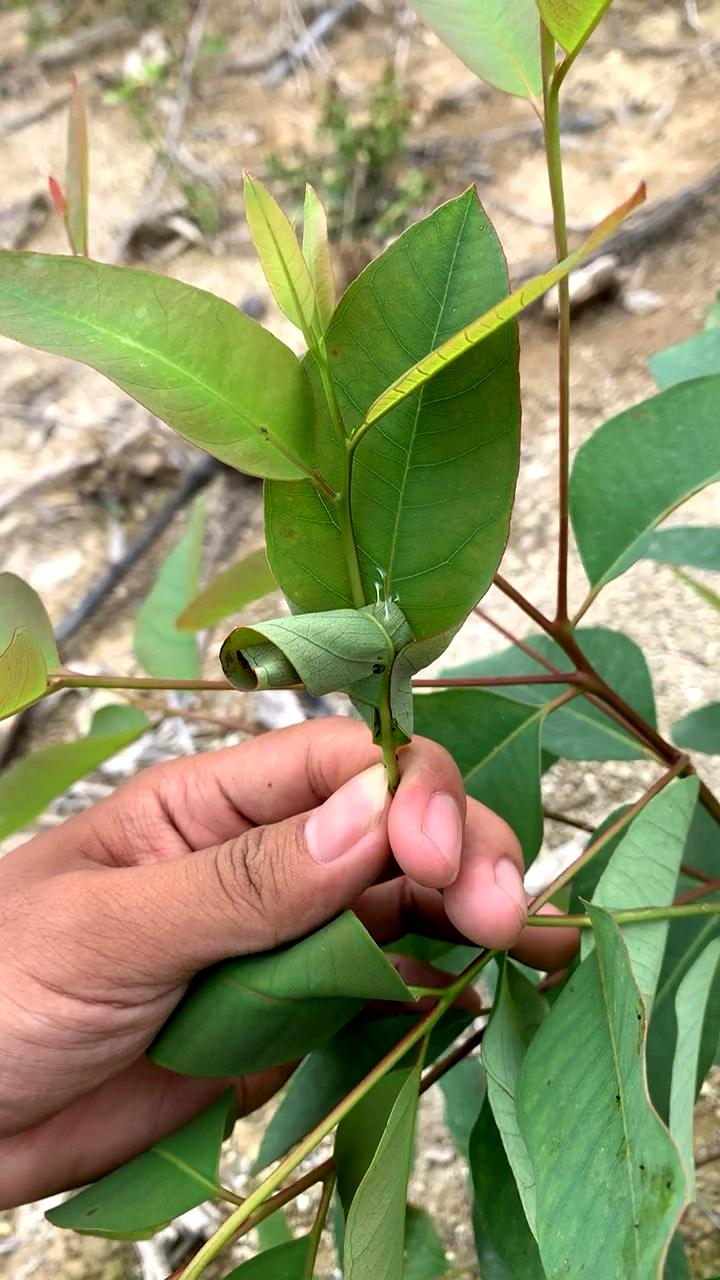Leaf Roller - Leaf: (191, 540, 466, 762)
